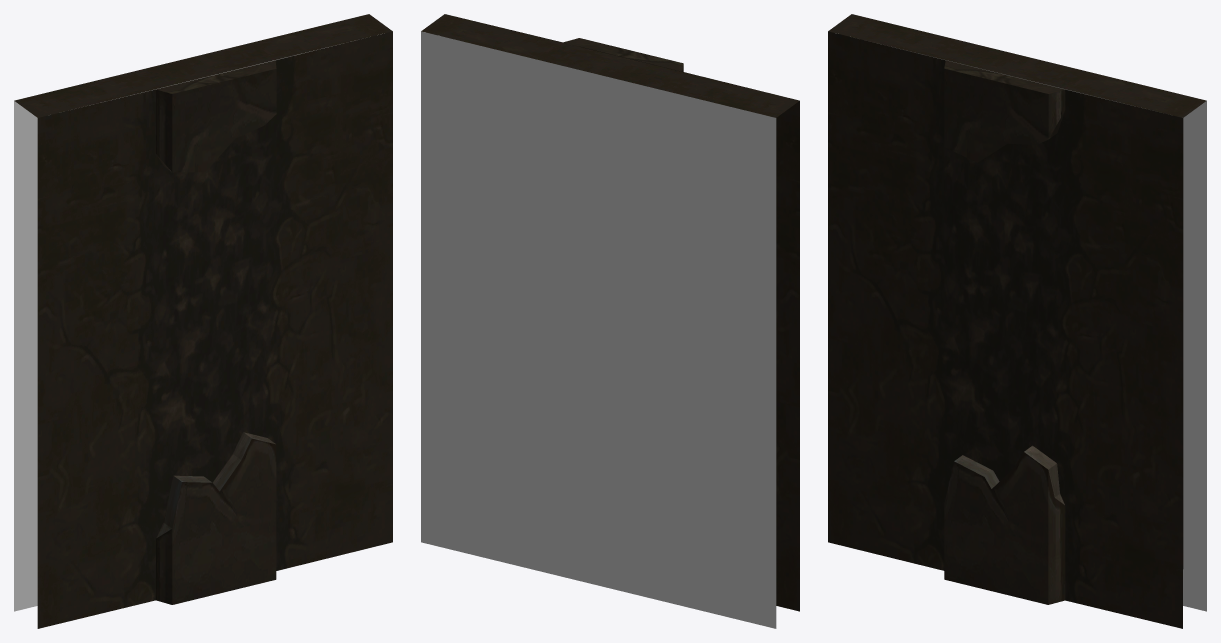
The model's file is fortress_wall_straight_02_f.fbx.
The picture shows the model from 3 angles, left to right: view 1: azimuth 30°, elevation 25°; view 2: azimuth 150°, elevation 25°; view 3: azimuth 330°, elevation 25°; orthographic projection.
Visible parts, largest first — view 1: fortress_wall_straight_02_f-0; view 2: fortress_wall_straight_02_f-0; view 3: fortress_wall_straight_02_f-0.
Part boxes in pixels (box(x1,y1,x2,y2)): fortress_wall_straight_02_f-0: box(14, 14, 392, 628); fortress_wall_straight_02_f-0: box(421, 14, 799, 628); fortress_wall_straight_02_f-0: box(828, 14, 1206, 628).
Size of the model in its own units: 4 by 5.5 by 0.6409.
